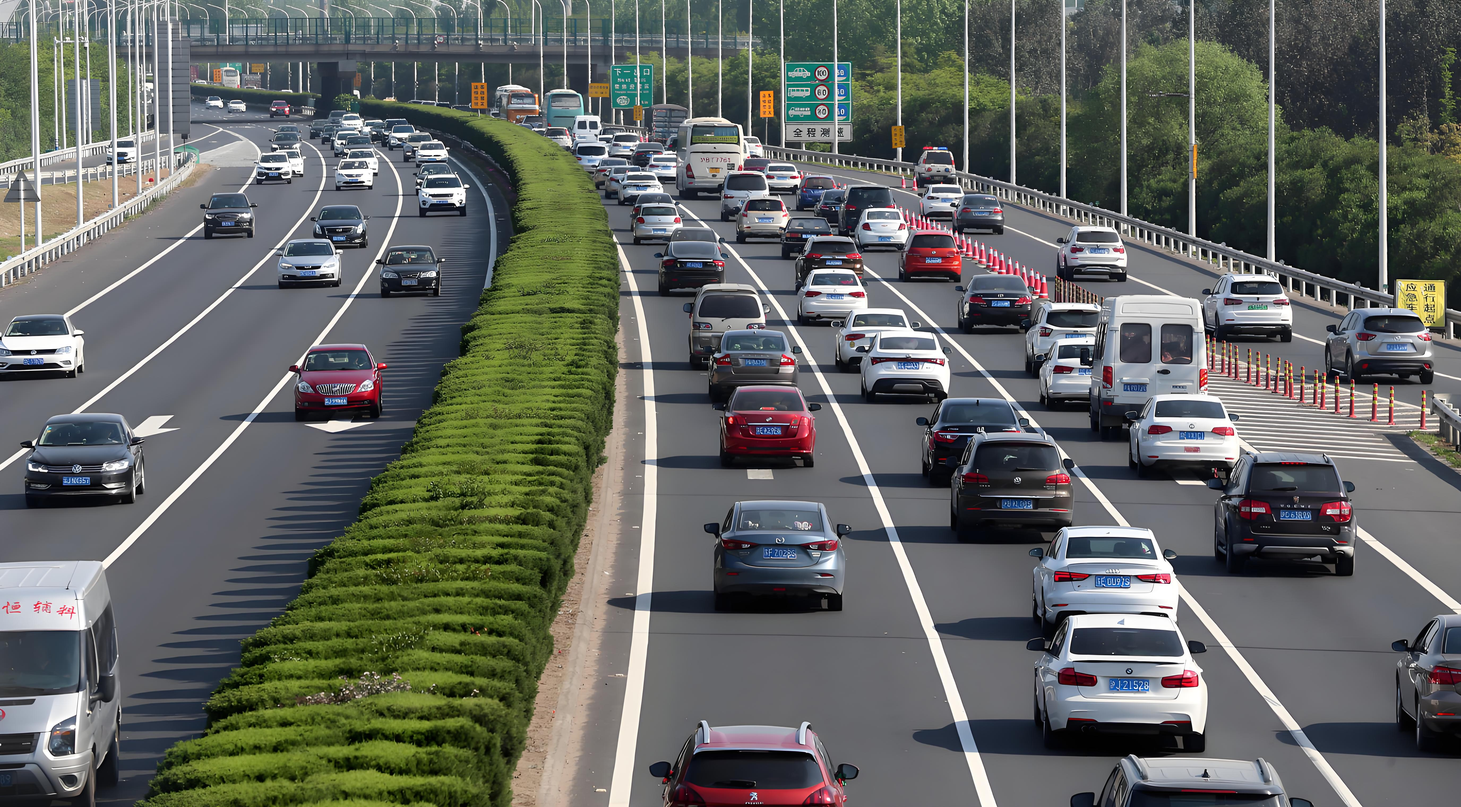bus: (664, 112, 744, 204)
car: (1, 555, 150, 804), (1024, 609, 1238, 765), (641, 701, 872, 804), (936, 422, 1082, 543), (1221, 460, 1364, 580), (1030, 519, 1179, 620), (14, 412, 174, 499), (250, 341, 410, 428), (1122, 378, 1244, 478), (1042, 315, 1166, 413), (676, 277, 786, 382), (896, 381, 1019, 473), (706, 488, 820, 580), (1377, 614, 1461, 737), (1065, 363, 1190, 440), (721, 385, 828, 471), (0, 292, 89, 385), (269, 213, 358, 306), (844, 307, 934, 396), (697, 320, 795, 394), (375, 239, 465, 319), (948, 263, 1032, 338), (794, 268, 880, 330), (799, 220, 867, 296), (887, 226, 972, 281), (624, 191, 700, 250), (315, 205, 385, 264), (729, 190, 813, 237), (846, 195, 905, 253), (646, 224, 705, 278), (198, 194, 255, 241), (411, 164, 462, 213), (405, 132, 447, 170), (240, 149, 292, 179), (273, 128, 310, 170), (370, 113, 418, 145), (335, 130, 374, 166), (328, 119, 368, 151), (622, 163, 652, 200), (343, 156, 378, 187)
